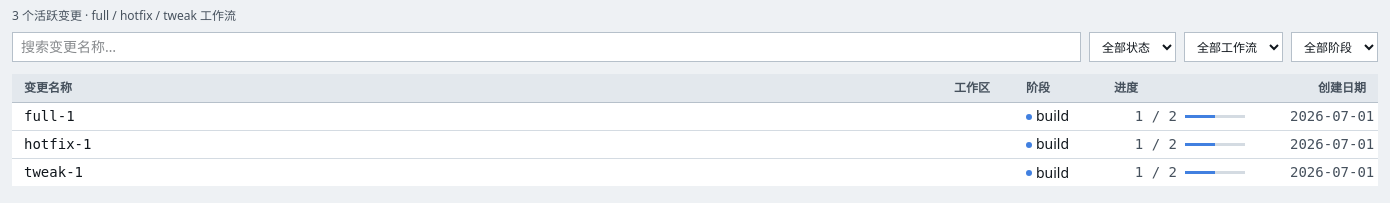
Test: ChangeExplorer › filters by workflow using the workflow select
The width and height of the screenshot is (1390, 203).
Select "hotfix" in the dropdown named "工作流" at (1234,47), box left=1184, top=32, right=1283, bottom=62
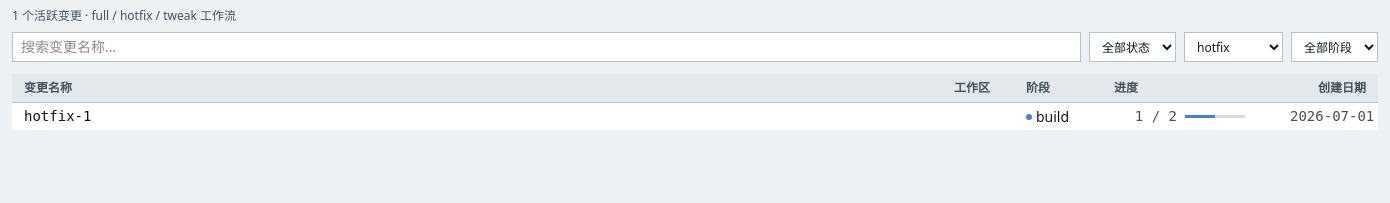
Expected: the text "hotfix-1" is shown, left=12, top=102, right=942, bottom=130
Result: the button "full-1" is gone
Result: the button "tweak-1" is gone
